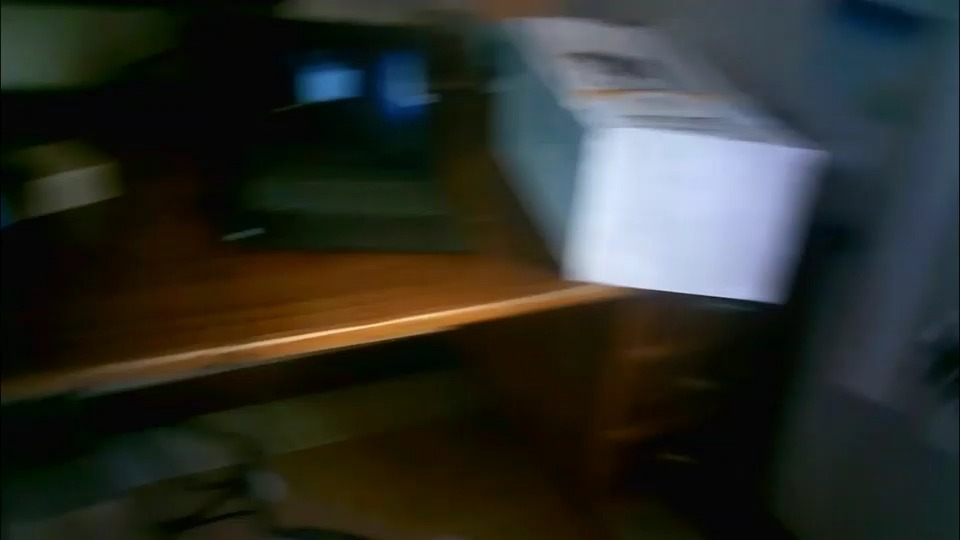wheat_flour_blue_label: (485, 14, 832, 310)
